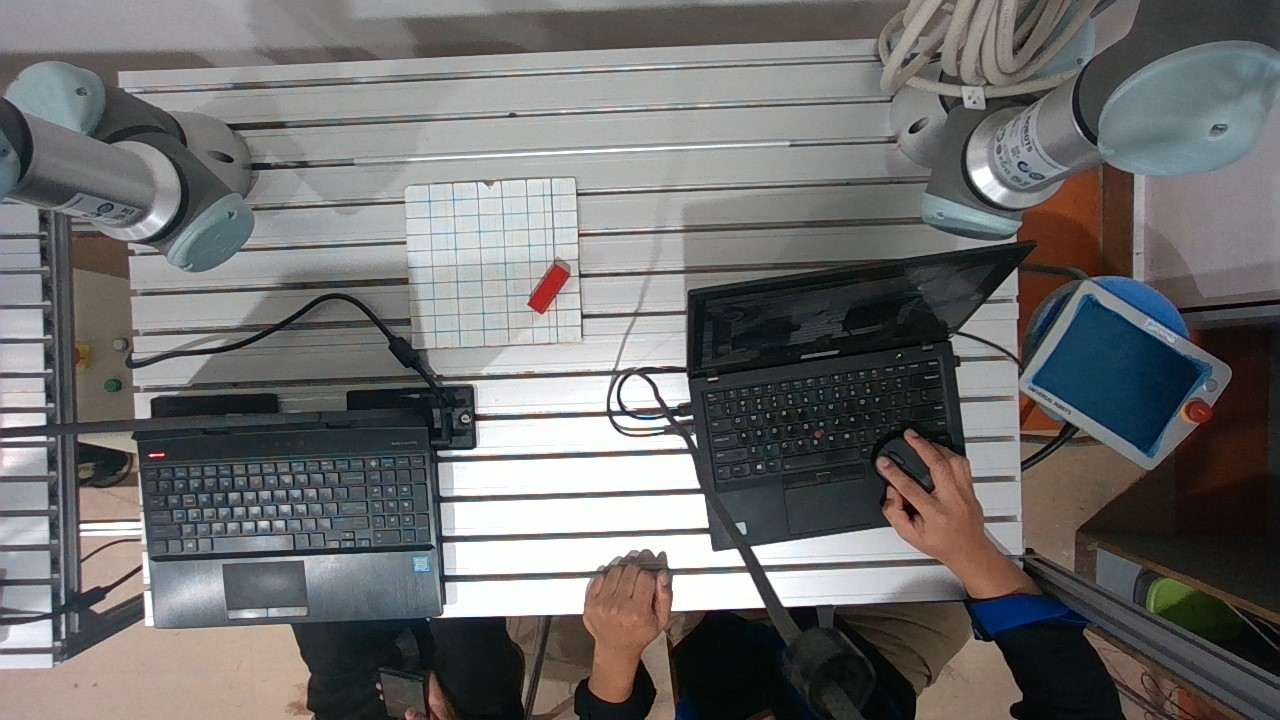box: (517, 247, 573, 322)
